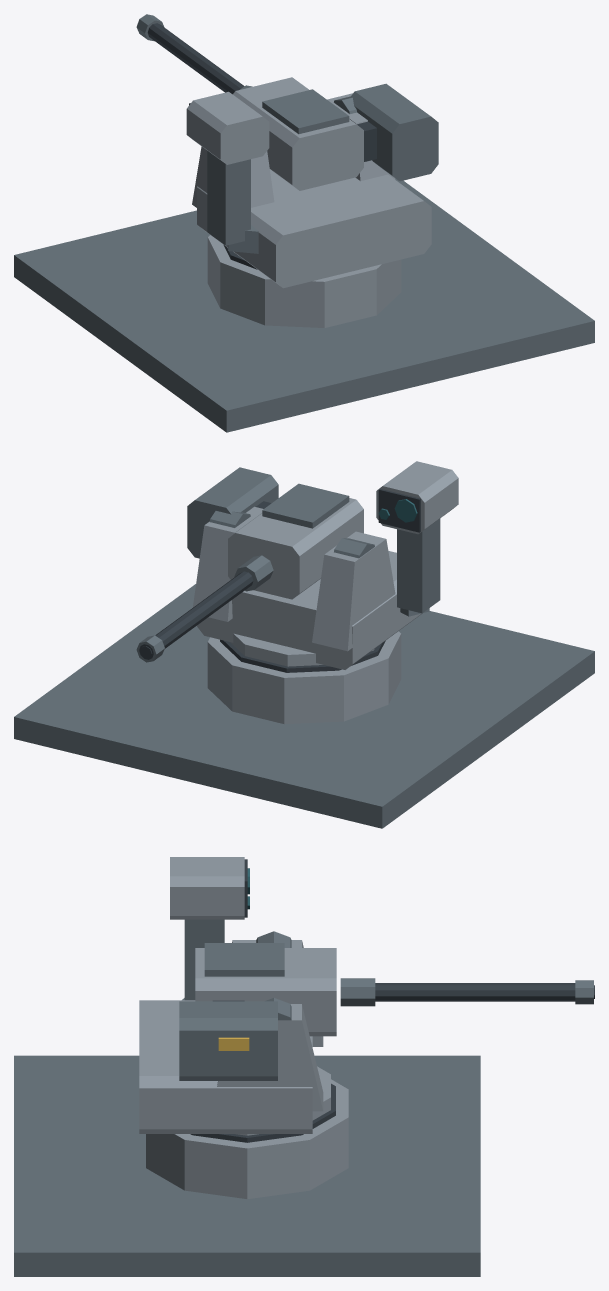
The model's file is MOD_Autocannon.fbx.
3 renders of one model, top to bottom at view 1: azimuth 30°, elevation 25°; view 2: azimuth 150°, elevation 25°; view 3: azimuth 270°, elevation 25°, orthographic. The views are drawn at different scales.
Parts seen in each view (by area): view 1: AC8_FixedDeckPlate, TurretPivot_Visual_Naval_Blue_Grey, AC8_FixedPedestal, ElevationPivot_Visual_Deck_Grey, AC8_GunReceiver, AC8_EoIrHead, TurretPivot_Visual_Deck_Grey, ElevationPivot_Visual_Gunmetal; view 2: AC8_FixedDeckPlate, TurretPivot_Visual_Naval_Blue_Grey, AC8_FixedPedestal, ElevationPivot_Visual_Deck_Grey, AC8_GunReceiver, TurretPivot_Visual_Deck_Grey, AC8_EoIrHead, ElevationPivot_Visual_Gunmetal, AC8_OpticalFrontPanel, AC8_FixedBearingSeat, OpticsPivot_Visual_Sensor_Glass; view 3: AC8_FixedDeckPlate, TurretPivot_Visual_Naval_Blue_Grey, ElevationPivot_Visual_Deck_Grey, AC8_FixedPedestal, AC8_GunReceiver, AC8_EoIrHead, ElevationPivot_Visual_Gunmetal, TurretPivot_Visual_Deck_Grey, AC8_FixedBearingSeat.
Part boxes in pixels (<box>): AC8_FixedDeckPlate: <box>14,178,594,432</box>; TurretPivot_Visual_Naval_Blue_Grey: <box>192,93,431,288</box>; AC8_FixedPedestal: <box>207,235,401,327</box>; ElevationPivot_Visual_Deck_Grey: <box>136,14,438,181</box>; AC8_GunReceiver: <box>233,77,363,190</box>; AC8_EoIrHead: <box>186,91,269,164</box>; TurretPivot_Visual_Deck_Grey: <box>207,96,357,253</box>; ElevationPivot_Visual_Gunmetal: <box>147,23,376,161</box>; AC8_FixedDeckPlate: <box>14,584,594,828</box>; TurretPivot_Visual_Naval_Blue_Grey: <box>192,506,422,669</box>; AC8_FixedPedestal: <box>207,631,401,724</box>; ElevationPivot_Visual_Deck_Grey: <box>136,467,349,662</box>; AC8_GunReceiver: <box>228,498,363,599</box>; TurretPivot_Visual_Deck_Grey: <box>209,511,440,616</box>; AC8_EoIrHead: <box>376,461,458,534</box>; ElevationPivot_Visual_Gunmetal: <box>139,501,271,659</box>; AC8_OpticalFrontPanel: <box>378,489,420,532</box>; AC8_FixedBearingSeat: <box>220,639,385,672</box>; OpticsPivot_Visual_Sensor_Glass: <box>378,499,417,522</box>; AC8_FixedDeckPlate: <box>14,1055,480,1276</box>; TurretPivot_Visual_Naval_Blue_Grey: <box>139,940,330,1135</box>; ElevationPivot_Visual_Deck_Grey: <box>179,943,593,1080</box>; AC8_FixedPedestal: <box>146,1079,348,1199</box>; AC8_GunReceiver: <box>195,948,336,1036</box>; AC8_EoIrHead: <box>170,857,244,919</box>; ElevationPivot_Visual_Gunmetal: <box>213,983,594,1001</box>; TurretPivot_Visual_Deck_Grey: <box>182,919,291,1020</box>; AC8_FixedBearingSeat: <box>190,1083,335,1142</box>.
Size of the model in its own units: 175 by 108 by 218.
